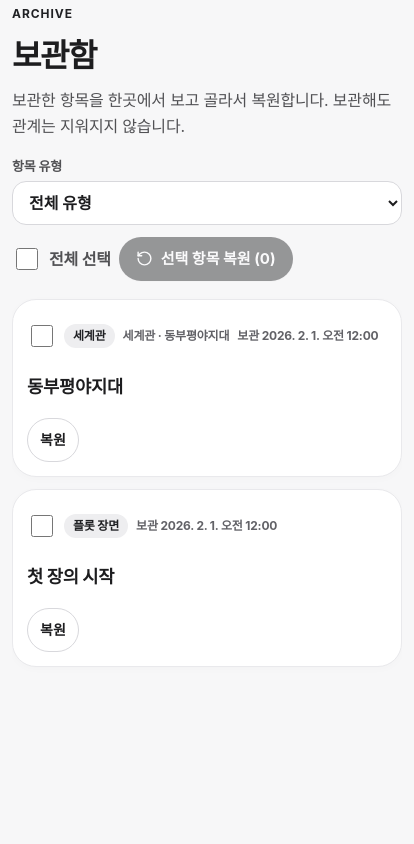
it: Task 14 archive page › restores selected items and reports ones that cannot be restored
This screenshot has width=414, height=844.
Step 1. Click the checkbox labelled "전체 선택" → point(27, 259), box 16,248 -> 38,270
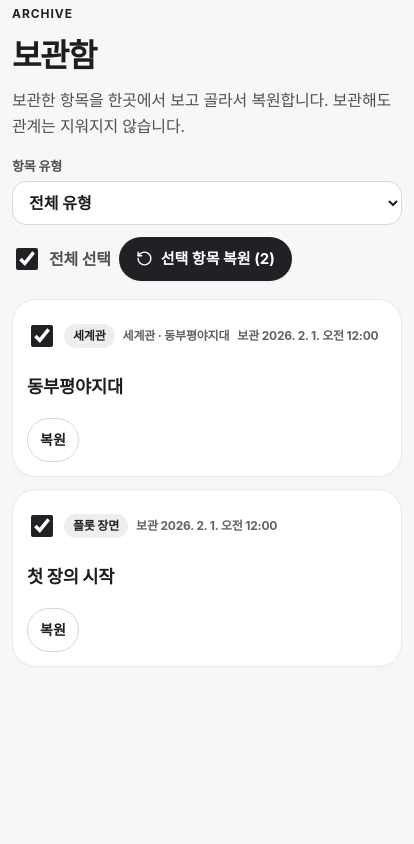
Step 2. Click the button "선택 항목 복원 (2)" → point(205, 259), box 119,237 -> 292,281
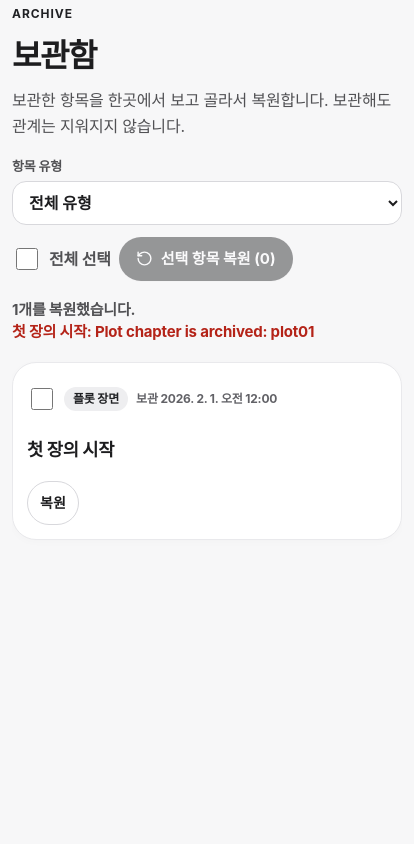
expect the text "1개를 복원했습니다." is shown: met, box 12,300 -> 135,319
expect the list item "첫 장의 시작: Plot chapter is archived: plot01" is shown: met, box 12,322 -> 314,341
expect the text "동부평야지대" is gone: met
